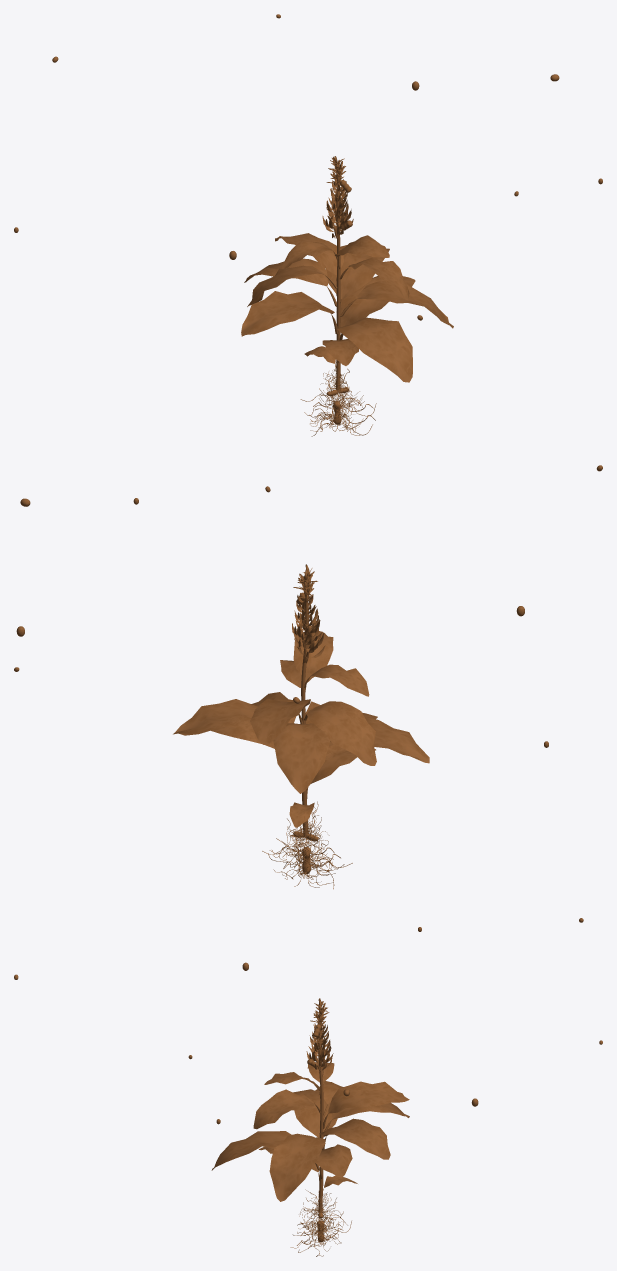
The model's file is Indica Plant New_cons_rev.glb.
3 views of the same model, one above another, from view 1: azimuth 30°, elevation 25°; view 2: azimuth 150°, elevation 25°; view 3: azimuth 270°, elevation 25° (orthographic). The views are drawn at different scales.
Visible parts, largest first — view 1: Vert; view 2: Vert; view 3: Vert.
Boxes of the visible parts, x1,y1,x2,y2 form: Vert: [241, 156, 453, 436]; Vert: [173, 564, 429, 889]; Vert: [211, 998, 409, 1256].
Size of the model in its own units: 23.93 by 13.82 by 27.04.
Materials: 1 (1 with a texture image).
